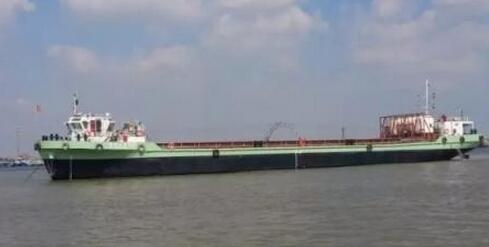Cargoship: (27, 84, 481, 181)
